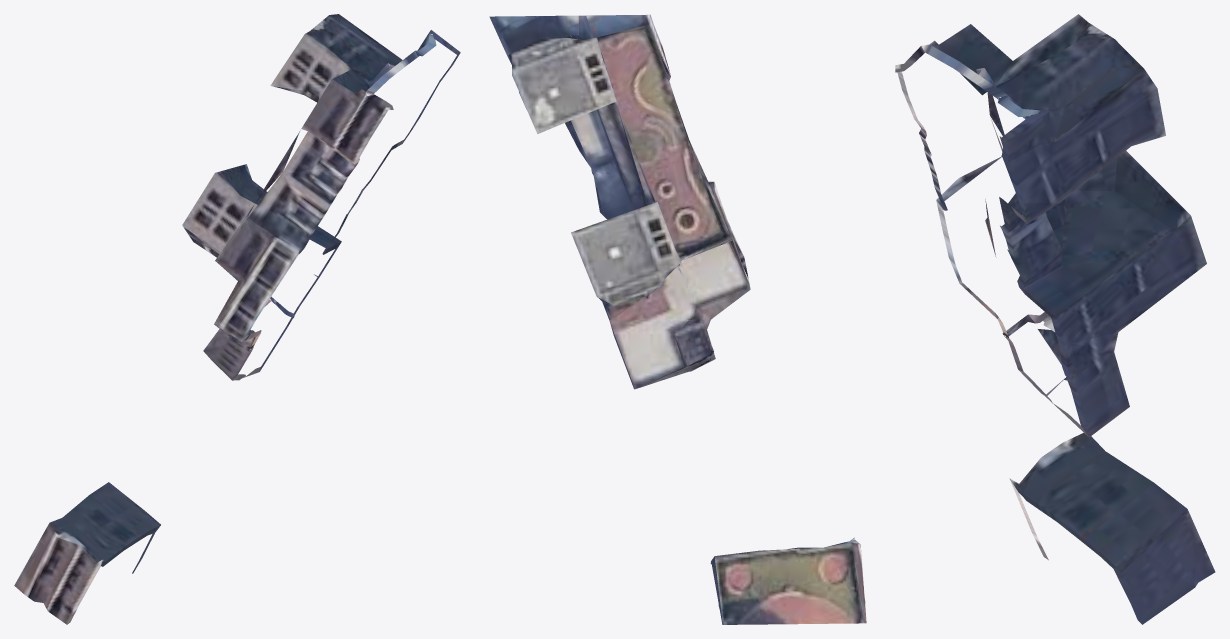
The picture shows the model from 3 angles, left to right: view 1: azimuth 30°, elevation 25°; view 2: azimuth 150°, elevation 25°; view 3: azimuth 270°, elevation 25°; orthographic projection. The views are drawn at different scales.
Bounding box in the file's own units: 59.74 × 73.23 × 29.94.
1 material, 1 textured.
